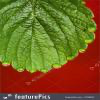Strawberry leaf: (0, 0, 97, 74)
